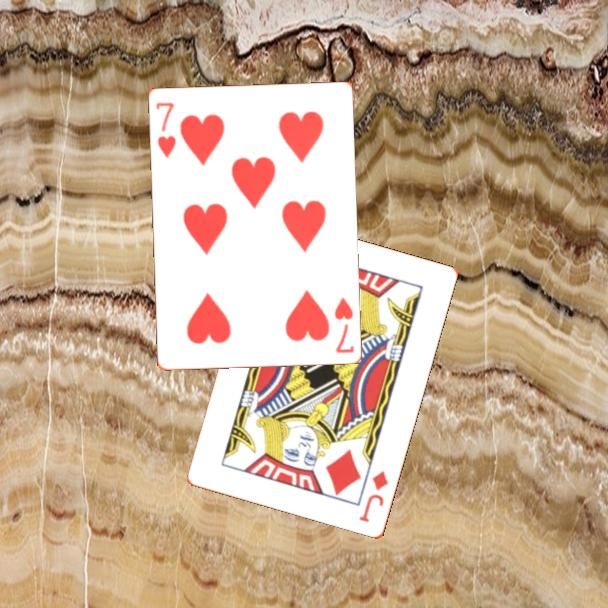d11: (356, 468, 391, 526)
h07: (330, 293, 357, 356), (152, 98, 178, 161)
